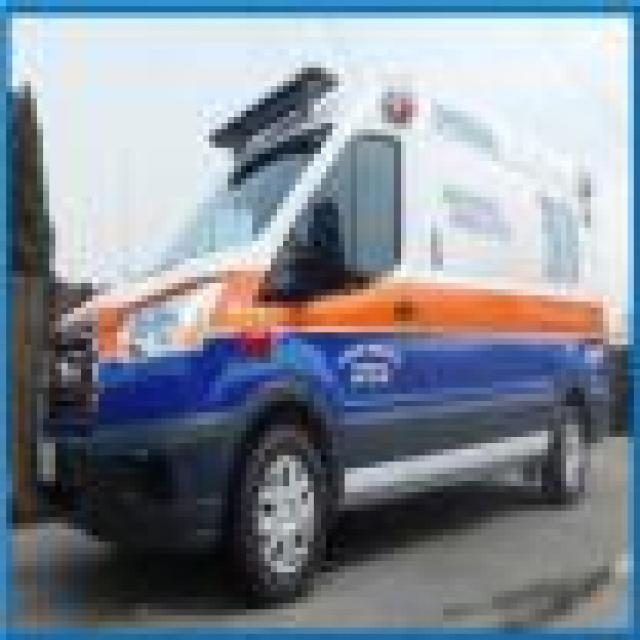emergency-vehicle: (37, 55, 616, 591)
